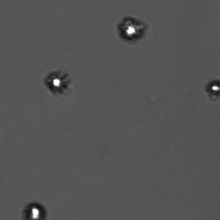Living Cell: (113, 12, 150, 46), (39, 66, 75, 98), (20, 198, 51, 218), (202, 76, 219, 101)
